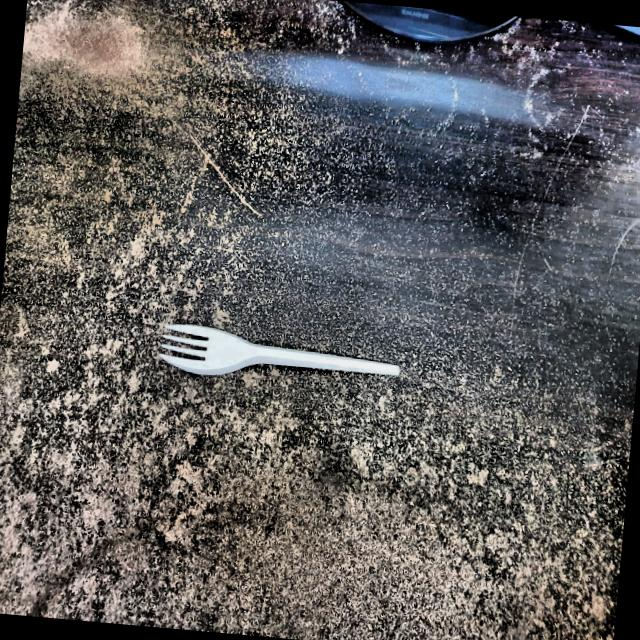plastic utensil: (159, 319, 400, 398)
